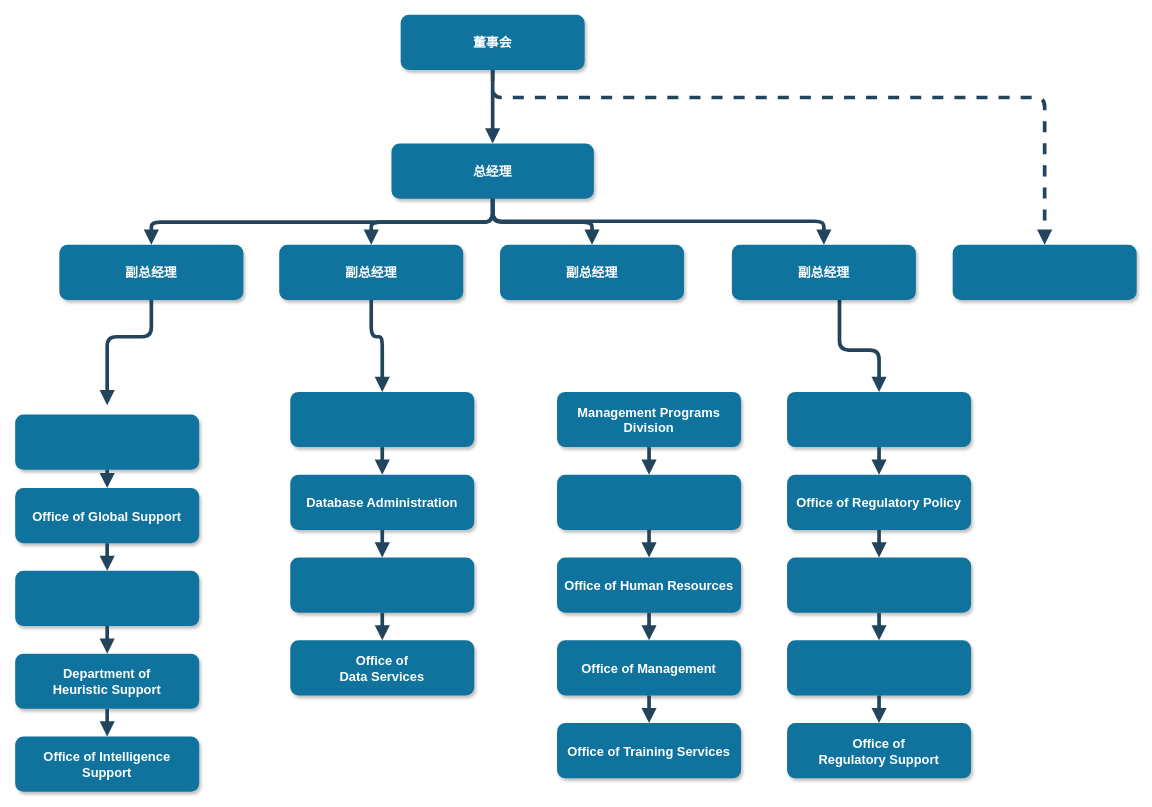
The diagram is 1152 pixels wide and 807 high, and some of its shapes have lost their labels. The centre of each missing label's shape, as x and y in pixels:
Analysis Division: pixel 107 443
IT Division: pixel 382 420
Office Compliance: pixel 879 586
Office of Backtrack Analysis: pixel 107 599
Office of Enforcement: pixel 879 669
Office of Financial Management: pixel 649 503
Office of Technology Research: pixel 382 586
Regulatory and Enforcement Division: pixel 879 420
河南天一航空装备有限公司: pixel 1045 273
